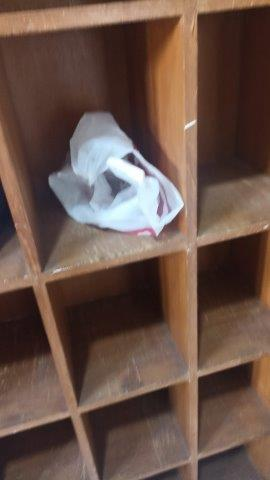plastik: (48, 114, 187, 243)
